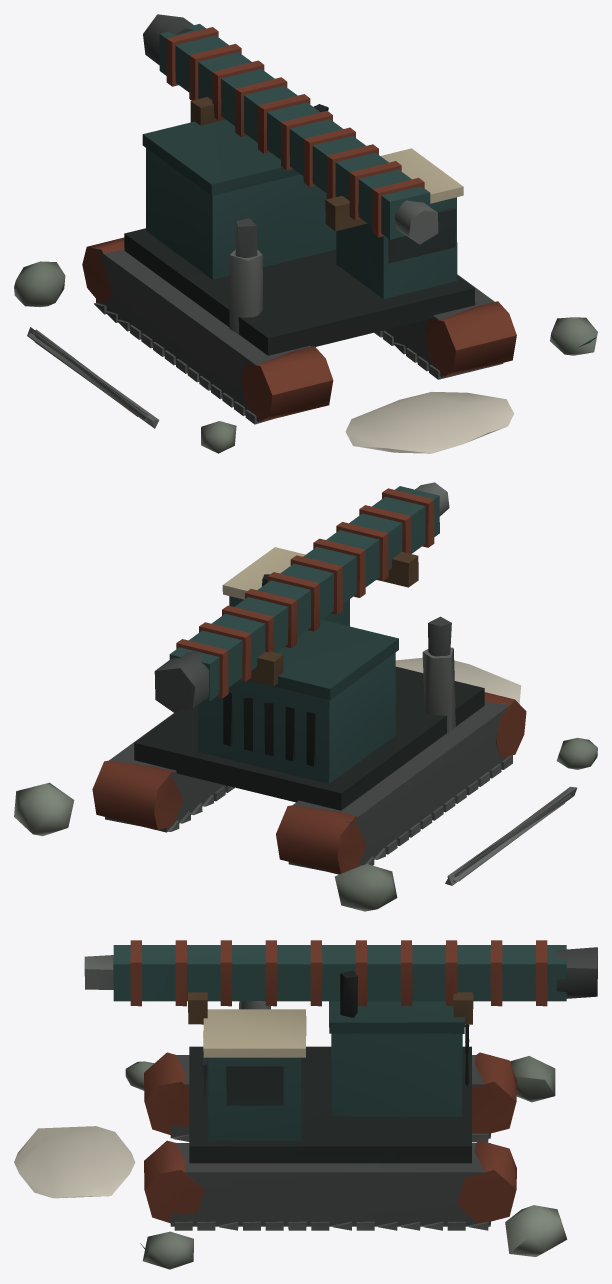
File: drill_rig_wreck_a_lod2.glb
3 views of the same model, one above another, from view 1: azimuth 30°, elevation 25°; view 2: azimuth 150°, elevation 25°; view 3: azimuth 270°, elevation 25° (orthographic).
Visible parts, largest first — view 1: Surface.001; view 2: Surface.001; view 3: Surface.001.
Part boxes in pixels (x1=…): Surface.001: x1=14, y1=14, x2=597, y2=453; Surface.001: x1=14, y1=482, x2=597, y2=911; Surface.001: x1=14, y1=940, x2=597, y2=1269.
Bounding box in the file's own units: 10.15 × 5.33 × 12.32.
